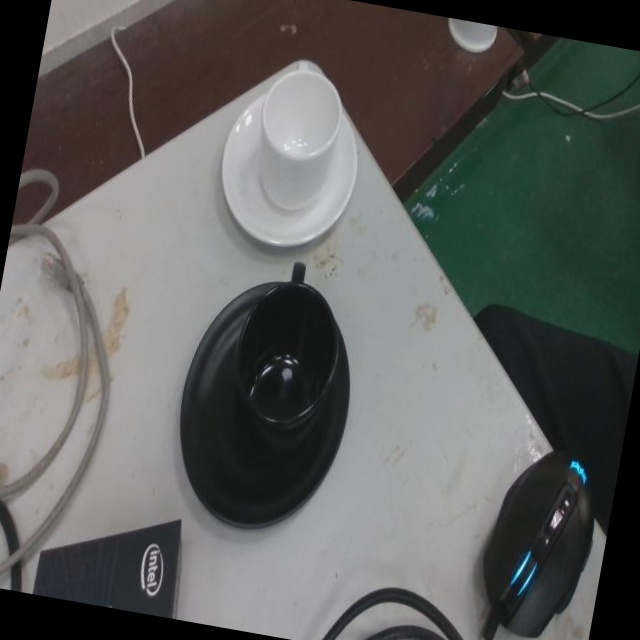black: (179, 256, 353, 539)
white: (222, 58, 361, 252)
